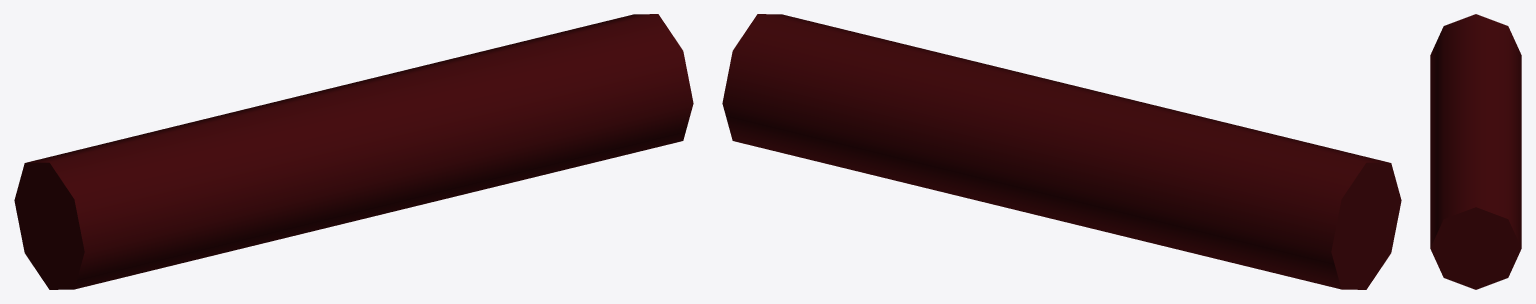
Rendered from BrandNewLineSegment.fbx.
3 renders of one model, left to right at view 1: azimuth 30°, elevation 25°; view 2: azimuth 150°, elevation 25°; view 3: azimuth 270°, elevation 25°, orthographic. The views are drawn at different scales.
Parts seen in each view (by area): view 1: Cylinder; view 2: Cylinder; view 3: Cylinder.
Boxes of the visible parts, x1,y1,x2,y2 form: Cylinder: (14, 14, 693, 289); Cylinder: (722, 14, 1401, 289); Cylinder: (1430, 14, 1521, 289).
Bounding box in the file's own units: 100 × 20 × 20.
